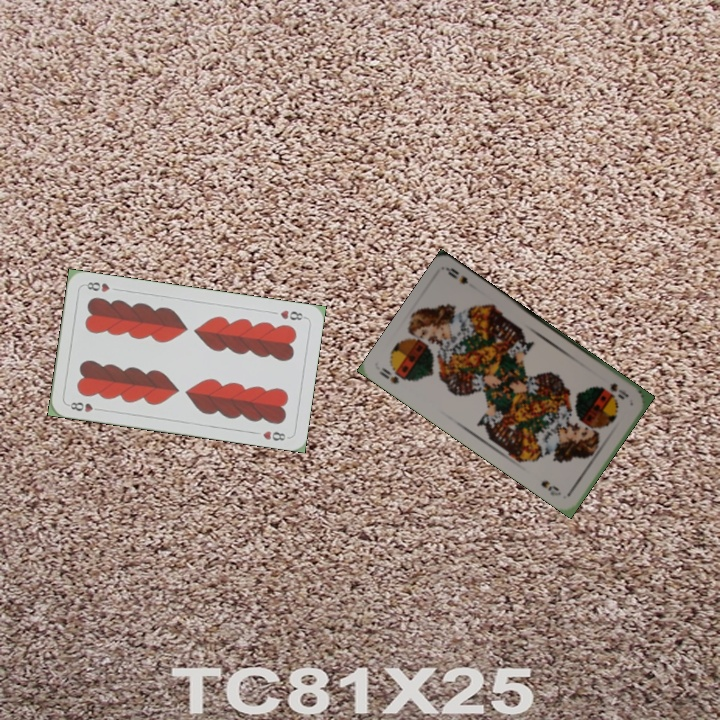H8: (64, 398, 104, 415), (276, 306, 308, 323)
SO: (375, 363, 402, 387), (606, 379, 631, 402)
